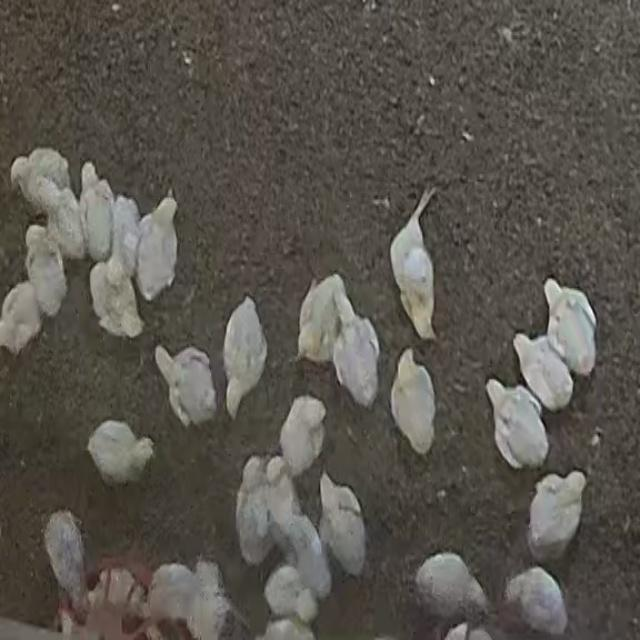chicken: (372, 197, 445, 341), (271, 479, 340, 612), (124, 190, 202, 304), (140, 346, 227, 442), (221, 304, 284, 427), (371, 346, 442, 453), (15, 223, 86, 328), (25, 503, 102, 599), (426, 556, 511, 640), (549, 271, 604, 389), (331, 293, 382, 412), (79, 251, 149, 337), (99, 178, 159, 276), (285, 384, 337, 495), (531, 464, 588, 565), (500, 576, 588, 640), (232, 472, 288, 570), (13, 140, 80, 220), (478, 377, 538, 466), (515, 326, 574, 413), (314, 482, 366, 567), (176, 569, 237, 640), (84, 424, 141, 498), (80, 163, 120, 264), (307, 293, 350, 384), (275, 458, 316, 550), (0, 280, 50, 346), (271, 568, 319, 634), (154, 578, 200, 640), (447, 616, 513, 640), (262, 631, 314, 640)
